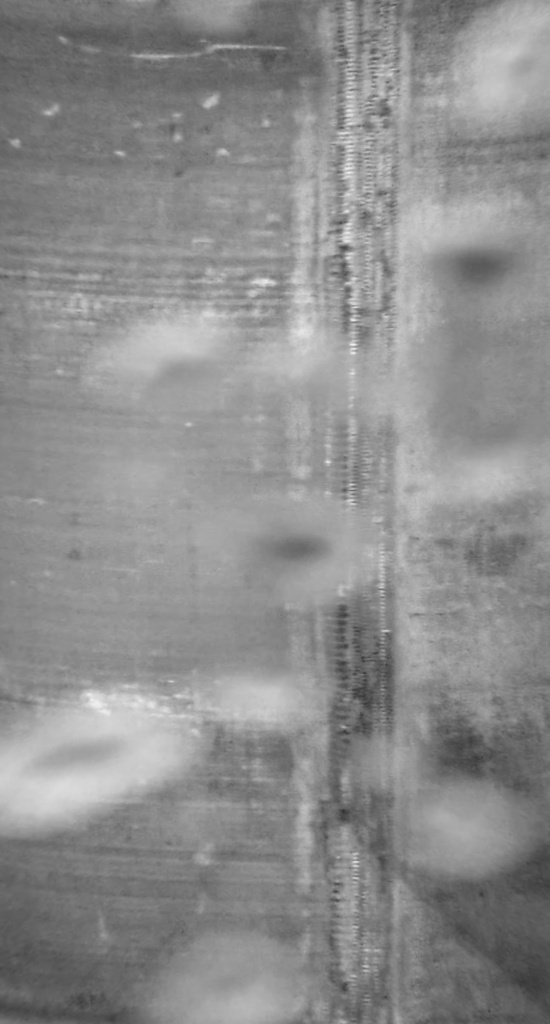splice: (317, 3, 414, 1024)
